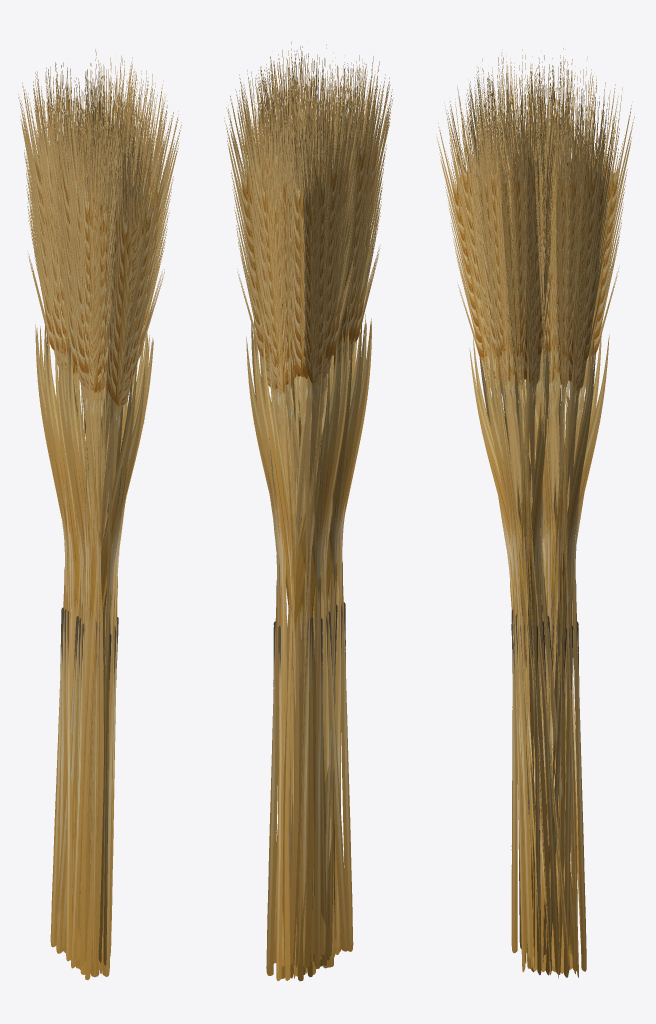
Rendered from wheat bundle empty.fbx.
3 renders of one model, left to right at view 1: azimuth 30°, elevation 25°; view 2: azimuth 150°, elevation 25°; view 3: azimuth 270°, elevation 25°, orthographic.
Visible parts, largest first — view 1: wheat_bundle_empty; view 2: wheat_bundle_empty; view 3: wheat_bundle_empty.
Part boxes in pixels (x1,y1,x2,y2): wheat_bundle_empty: (18, 49, 181, 979); wheat_bundle_empty: (224, 41, 393, 981); wheat_bundle_empty: (436, 48, 634, 978).
Bounding box in the file's own units: 10.31 × 74.64 × 15.
Materials: 1 (1 with a texture image).
